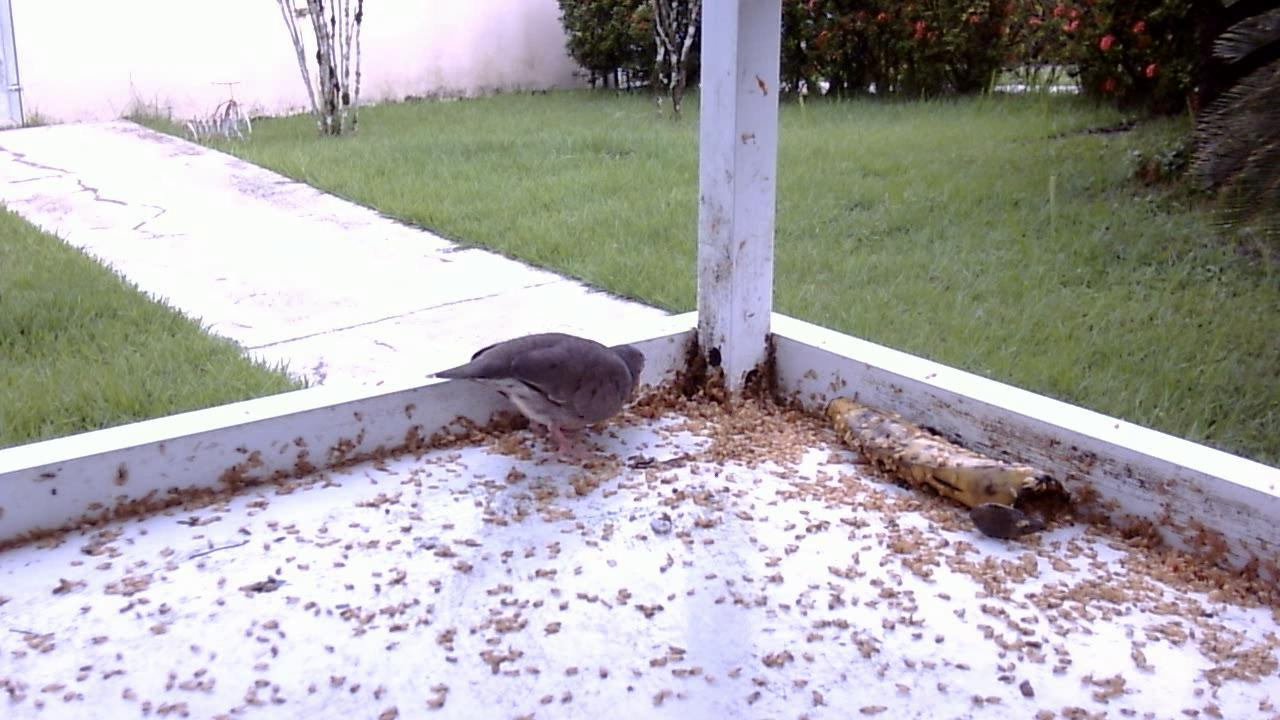rolinha: (416, 316, 663, 458)
